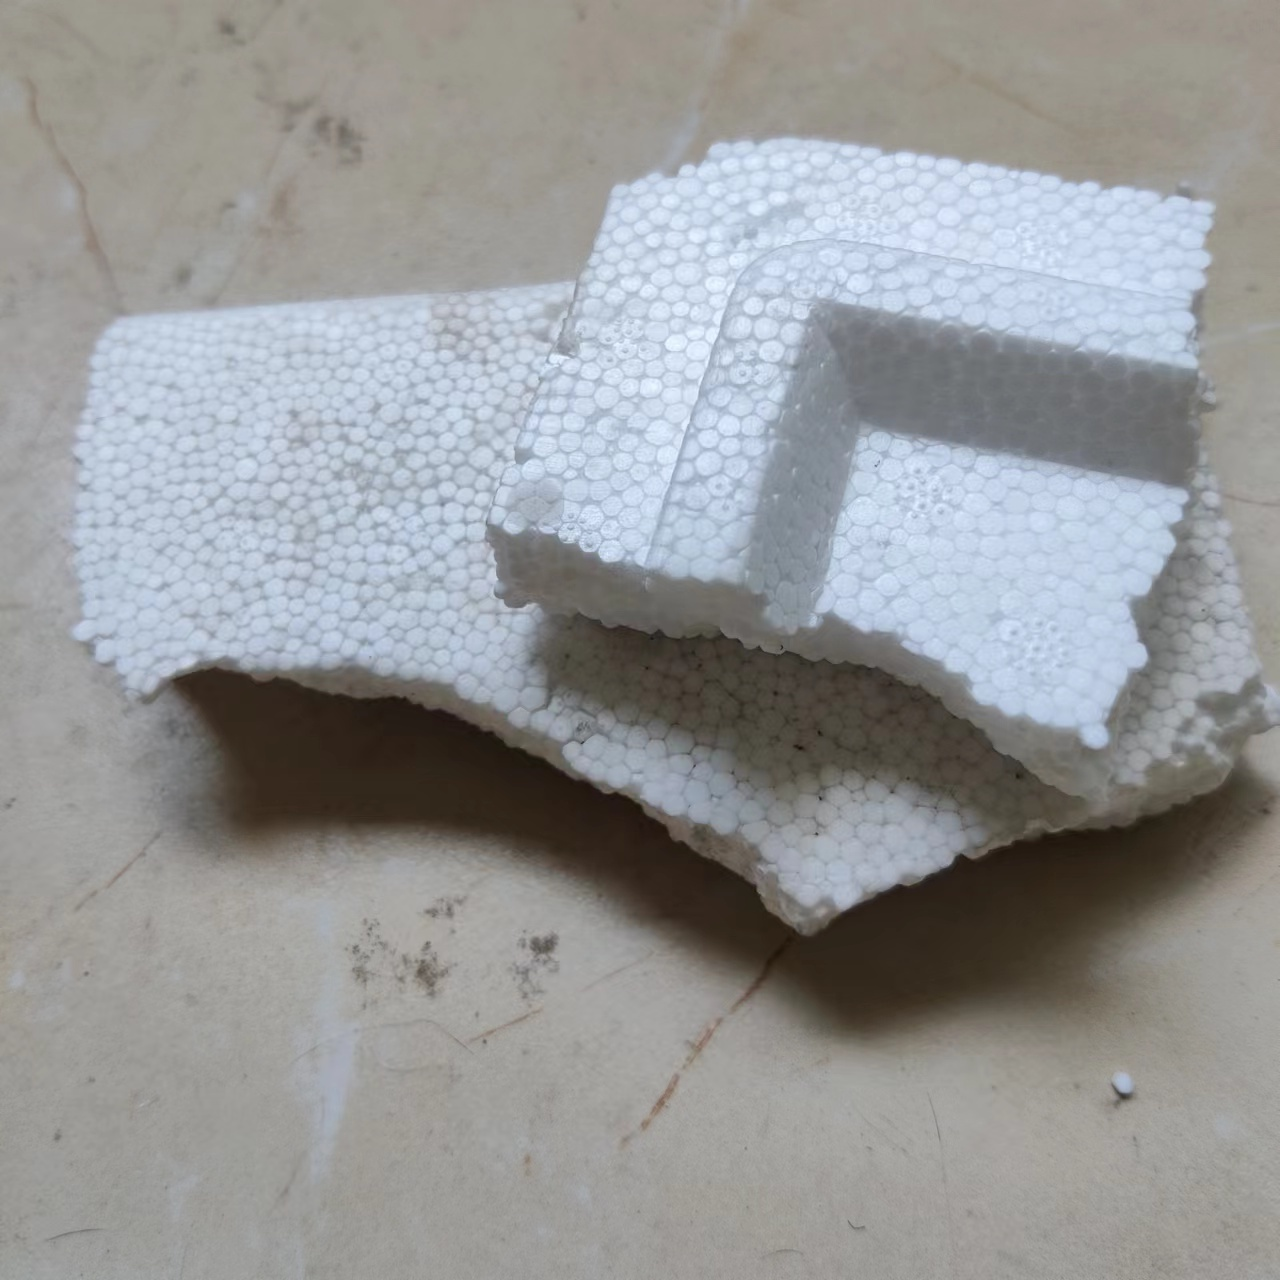5/可回收垃圾/泡沫: (66, 282, 1280, 937), (486, 135, 1220, 804)
